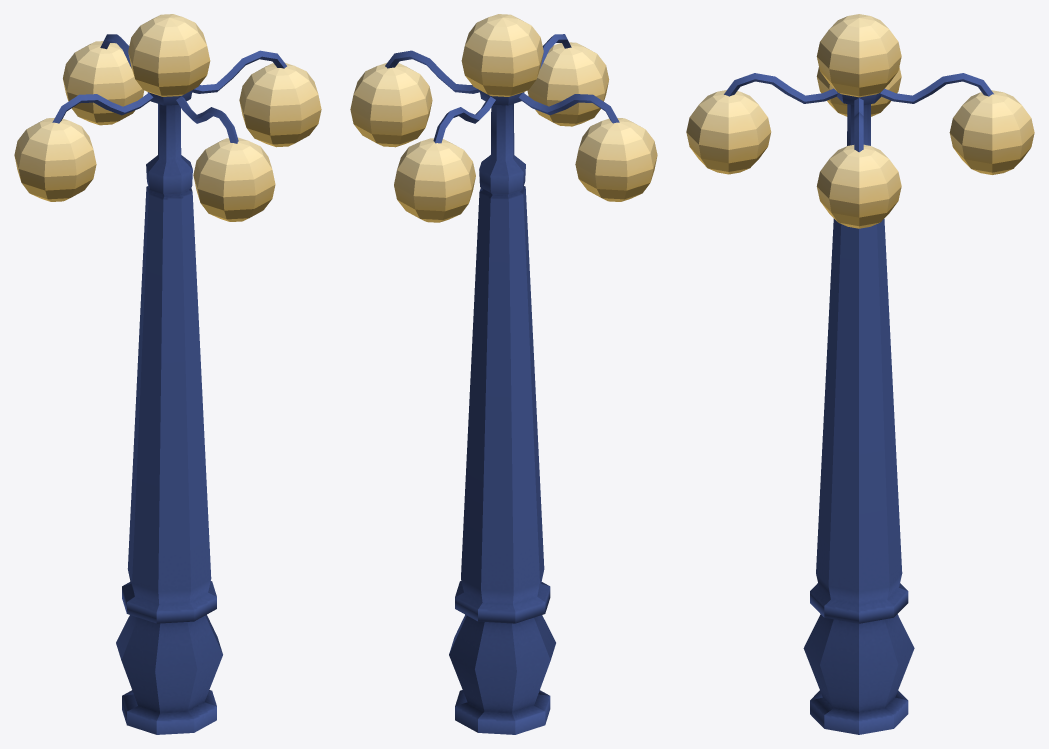
Rendered from Light.fbx.
3 renders of one model, left to right at view 1: azimuth 30°, elevation 25°; view 2: azimuth 150°, elevation 25°; view 3: azimuth 270°, elevation 25°, orthographic.
Parts seen in each view (by area): view 1: light; view 2: light; view 3: light.
Part boxes in pixels (left/top/right/bottom): light: left=14, top=14, right=321, bottom=734; light: left=350, top=14, right=657, bottom=734; light: left=686, top=14, right=1034, bottom=734.
Bounding box in the file's own units: 0.953 × 2.13 × 0.9639.
1 material, 1 textured.
